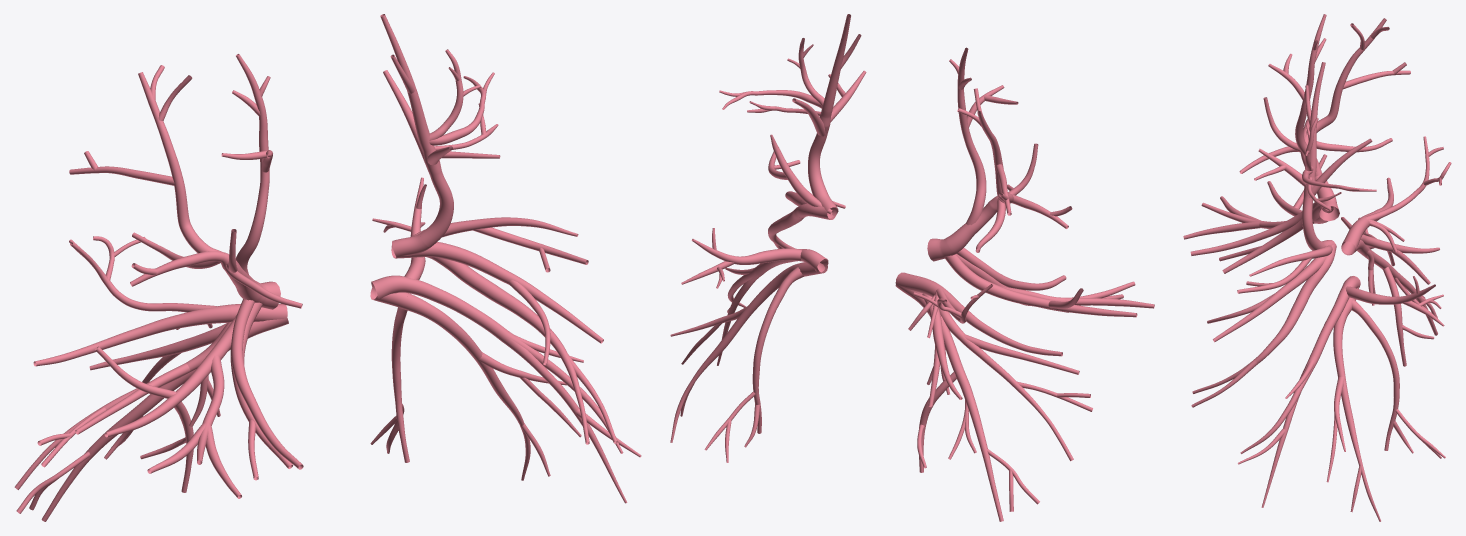
File: pulmonary_veins.glb
3 views of the same model, side by side, from view 1: azimuth 30°, elevation 25°; view 2: azimuth 150°, elevation 25°; view 3: azimuth 270°, elevation 25° (orthographic). The views are drawn at different scales.
Visible parts, largest first — view 1: Apicoposterior vein of left lung, Superior vein of left lung, Posterior vein of right lung, Lateral vein of right lung, Superior basal vein of right lung, Superior vein of right lung, Inferior basal vein of right lung, Superior basal vein of left lung, Medial vein of right lung, Inferior lingular vein of left lung, Apical vein of right lung, Superior lingular vein of left lung (+6 smaller); view 2: Apicoposterior vein of left lung, Superior basal vein of right lung, Inferior basal vein of right lung, Lateral vein of right lung, Superior vein of left lung, Superior basal vein of left lung, Posterior vein of right lung, Superior vein of right lung, Apical vein of right lung, Inferior basal vein of left lung, Right superior pulmonary vein, Medial vein of right lung (+5 smaller); view 3: Superior vein of left lung, Apicoposterior vein of left lung, Superior basal vein of left lung, Posterior vein of right lung, Medial vein of right lung, Inferior basal vein of right lung, Lateral vein of right lung, Inferior lingular vein of left lung, Inferior basal vein of left lung, Superior vein of right lung, Apical vein of right lung, Superior lingular vein of left lung (+5 smaller).
Boxes of the visible parts, x1,y1,x2,y2 form: Apicoposterior vein of left lung: [380, 14, 500, 247]; Superior vein of left lung: [372, 177, 641, 503]; Posterior vein of right lung: [69, 65, 224, 286]; Lateral vein of right lung: [95, 315, 241, 498]; Superior basal vein of right lung: [14, 321, 231, 489]; Superior vein of right lung: [33, 236, 231, 366]; Inferior basal vein of right lung: [16, 348, 230, 521]; Superior basal vein of left lung: [401, 293, 581, 480]; Medial vein of right lung: [230, 299, 303, 480]; Inferior lingular vein of left lung: [445, 260, 617, 444]; Apical vein of right lung: [221, 54, 272, 275]; Superior lingular vein of left lung: [442, 243, 603, 365]; Apicoposterior vein of left lung: [719, 14, 866, 195]; Superior basal vein of right lung: [916, 277, 1092, 461]; Inferior basal vein of right lung: [917, 301, 1039, 521]; Lateral vein of right lung: [945, 254, 1154, 317]; Superior vein of left lung: [681, 228, 802, 365]; Superior basal vein of left lung: [670, 263, 800, 442]; Posterior vein of right lung: [957, 88, 1072, 252]; Superior vein of right lung: [908, 283, 1062, 356]; Apical vein of right lung: [949, 47, 1018, 225]; Inferior basal vein of left lung: [704, 267, 803, 462]; Right superior pulmonary vein: [927, 196, 998, 261]; Medial vein of right lung: [955, 248, 1068, 312]; Superior vein of left lung: [1238, 276, 1444, 507]; Apicoposterior vein of left lung: [1254, 62, 1376, 250]; Superior basal vein of left lung: [1326, 298, 1380, 521]; Posterior vein of right lung: [1303, 18, 1410, 152]; Medial vein of right lung: [1190, 202, 1333, 273]; Inferior basal vein of right lung: [1357, 241, 1437, 366]; Lateral vein of right lung: [1183, 154, 1333, 239]; Inferior lingular vein of left lung: [1191, 272, 1322, 407]; Inferior basal vein of left lung: [1351, 300, 1445, 458]; Superior vein of right lung: [1356, 136, 1451, 252]; Apical vein of right lung: [1268, 14, 1326, 176]; Superior lingular vein of left lung: [1207, 259, 1321, 342].
Size of the model in its own units: 0.233 by 0.2284 by 0.1402.
